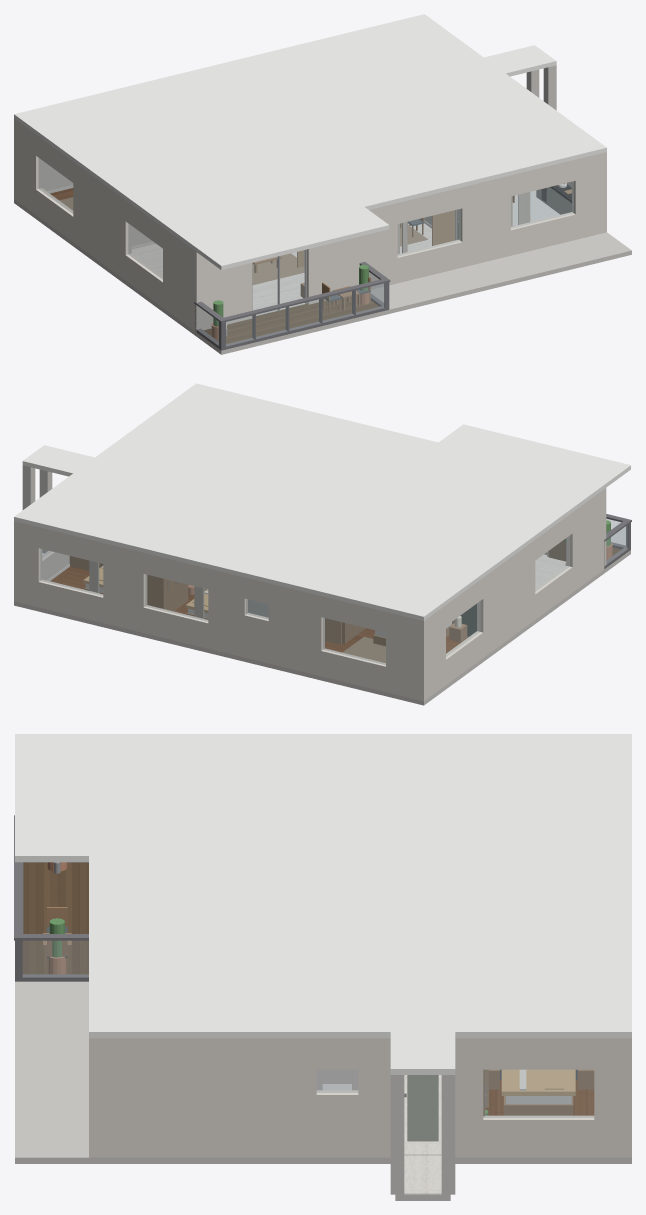
3 renders of one model, top to bottom at view 1: azimuth 30°, elevation 25°; view 2: azimuth 150°, elevation 25°; view 3: azimuth 270°, elevation 25°, orthographic. The views are drawn at different scales.
Visible parts, largest first — view 1: Shell__ceiling, Shell__plaster, Shell__slabc, Glazing__glazing, Shell__glazing, Shell__rail, Doors__glazing, Finish__deck, Finish__marble, Interior__rug, Shell__concrete, Doors__doorleaf (+4 smaller); view 2: Shell__ceiling, Shell__plaster, Glazing__glazing, Shell__slabc, Interior__wood, Finish__woodfloor, Shell__concrete, Interior__curtain, Shell__rail, Interior__rug, Finish__marble, Shell__glazing; view 3: Shell__ceiling, Shell__plaster, Shell__slabc, Glazing__glazing, Finish__deck, Shell__concrete, Finish__marble, Shell__glazing, Interior__wood, Shell__rail, Interior__rug2, Interior__throw (+2 smaller).
Part boxes in pixels (bbox=[...]): Shell__ceiling: bbox=[14, 14, 606, 270]; Shell__plaster: bbox=[14, 118, 606, 331]; Shell__slabc: bbox=[14, 199, 631, 354]; Glazing__glazing: bbox=[39, 158, 573, 279]; Shell__glazing: bbox=[197, 272, 384, 345]; Shell__rail: bbox=[194, 262, 390, 350]; Doors__glazing: bbox=[253, 250, 305, 314]; Finish__deck: bbox=[204, 296, 379, 343]; Finish__marble: bbox=[131, 223, 431, 315]; Interior__rug: bbox=[59, 197, 427, 284]; Shell__concrete: bbox=[526, 65, 556, 110]; Doors__doorleaf: bbox=[297, 195, 514, 267]; Shell__ceiling: bbox=[14, 383, 630, 620]; Shell__plaster: bbox=[14, 488, 606, 701]; Glazing__glazing: bbox=[40, 536, 569, 664]; Shell__slabc: bbox=[14, 549, 630, 705]; Interior__wood: bbox=[69, 556, 467, 646]; Finish__woodfloor: bbox=[51, 566, 468, 653]; Shell__concrete: bbox=[22, 465, 52, 509]; Interior__curtain: bbox=[89, 561, 204, 618]; Shell__rail: bbox=[604, 514, 631, 568]; Interior__rug: bbox=[342, 637, 385, 662]; Finish__marble: bbox=[535, 554, 565, 587]; Shell__glazing: bbox=[606, 519, 627, 563]; Shell__ceiling: bbox=[15, 734, 631, 1074]; Shell__plaster: bbox=[89, 1038, 631, 1157]; Shell__slabc: bbox=[15, 981, 631, 1200]; Glazing__glazing: bbox=[317, 1070, 593, 1117]; Finish__deck: bbox=[22, 862, 88, 974]; Shell__concrete: bbox=[390, 1075, 455, 1194]; Finish__marble: bbox=[404, 1075, 441, 1194]; Shell__glazing: bbox=[23, 941, 88, 976]; Interior__wood: bbox=[43, 907, 594, 1116]; Shell__rail: bbox=[14, 815, 88, 981]; Interior__rug2: bbox=[407, 1075, 438, 1141]; Interior__throw: bbox=[501, 1069, 575, 1095].
Size of the model in its own units: 17.14 by 3.15 by 13.35.
Materials: 45 (17 with a texture image).
